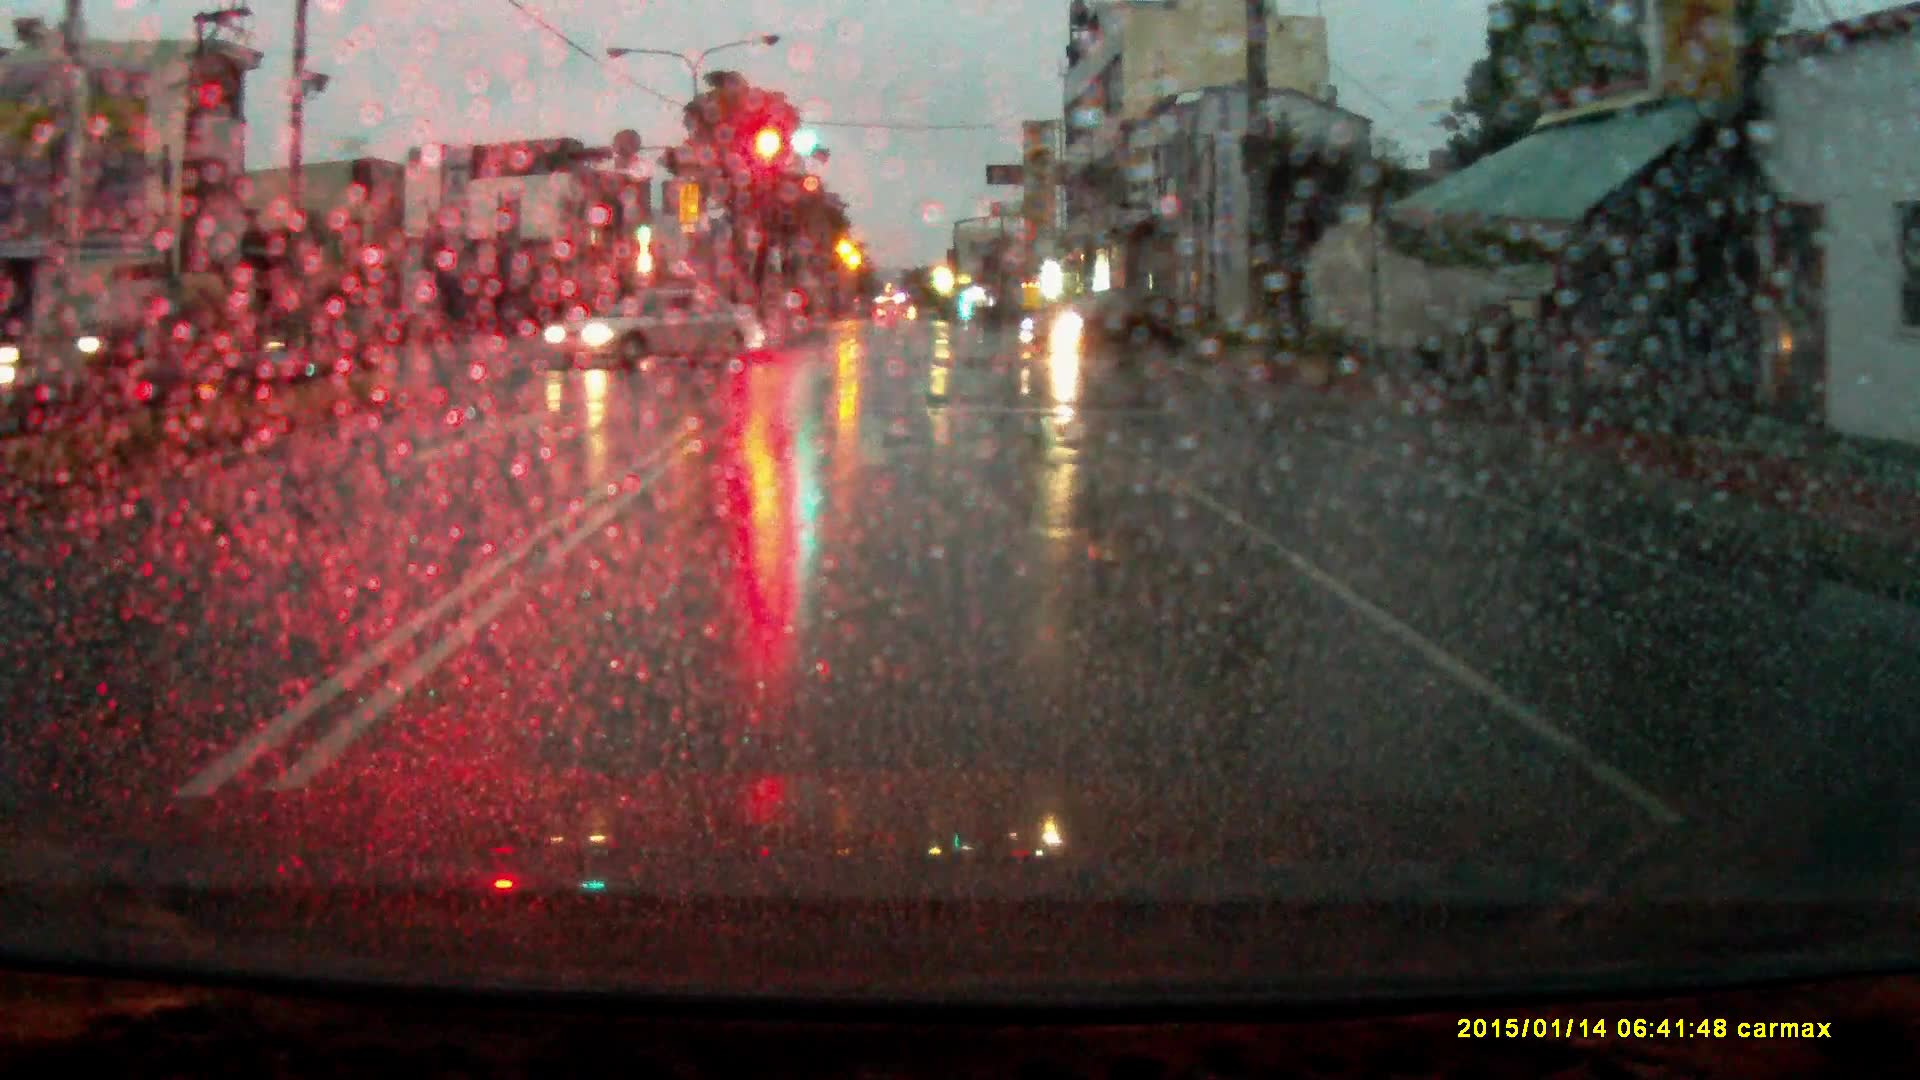vehicle: (57, 266, 319, 385), (543, 286, 770, 372), (1025, 293, 1199, 357)
